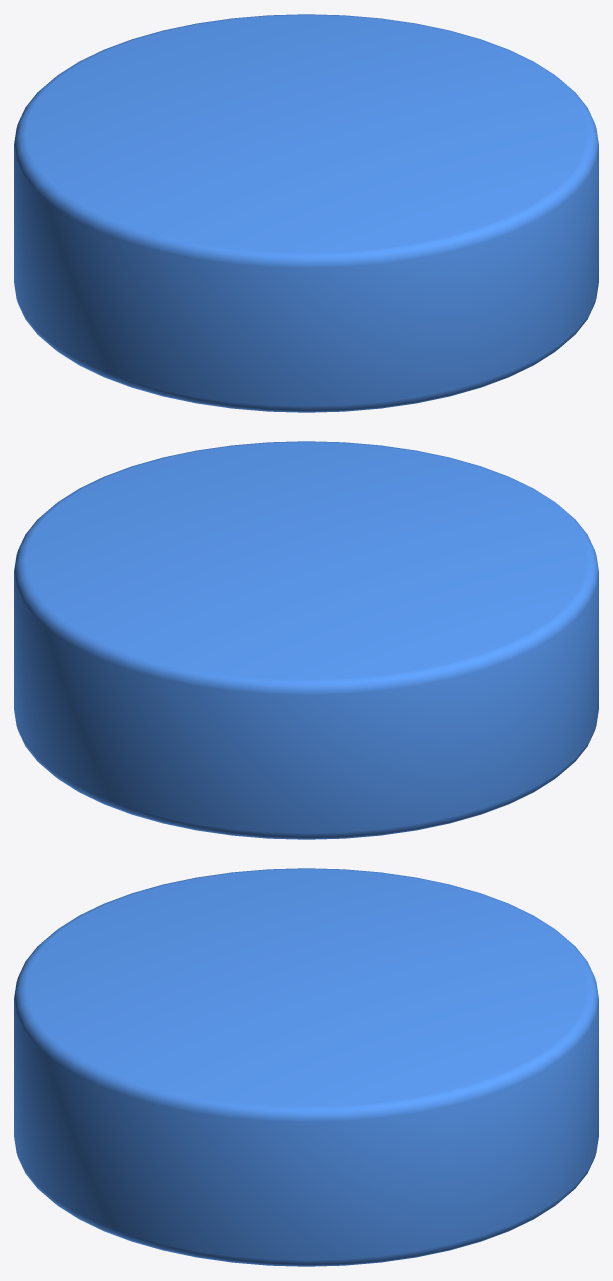
File: SM_FlickDisk_100.fbx
The picture shows the model from 3 angles, top to bottom: view 1: azimuth 30°, elevation 25°; view 2: azimuth 150°, elevation 25°; view 3: azimuth 270°, elevation 25°; orthographic projection.
Visible parts, largest first — view 1: SM_FlickDisk; view 2: SM_FlickDisk; view 3: SM_FlickDisk.
Part boxes in pixels (x1,y1,x2,y2): SM_FlickDisk: (14, 14, 598, 412); SM_FlickDisk: (14, 441, 598, 839); SM_FlickDisk: (14, 868, 598, 1266).
Bounding box in the file's own units: 1 × 0.3 × 1.
